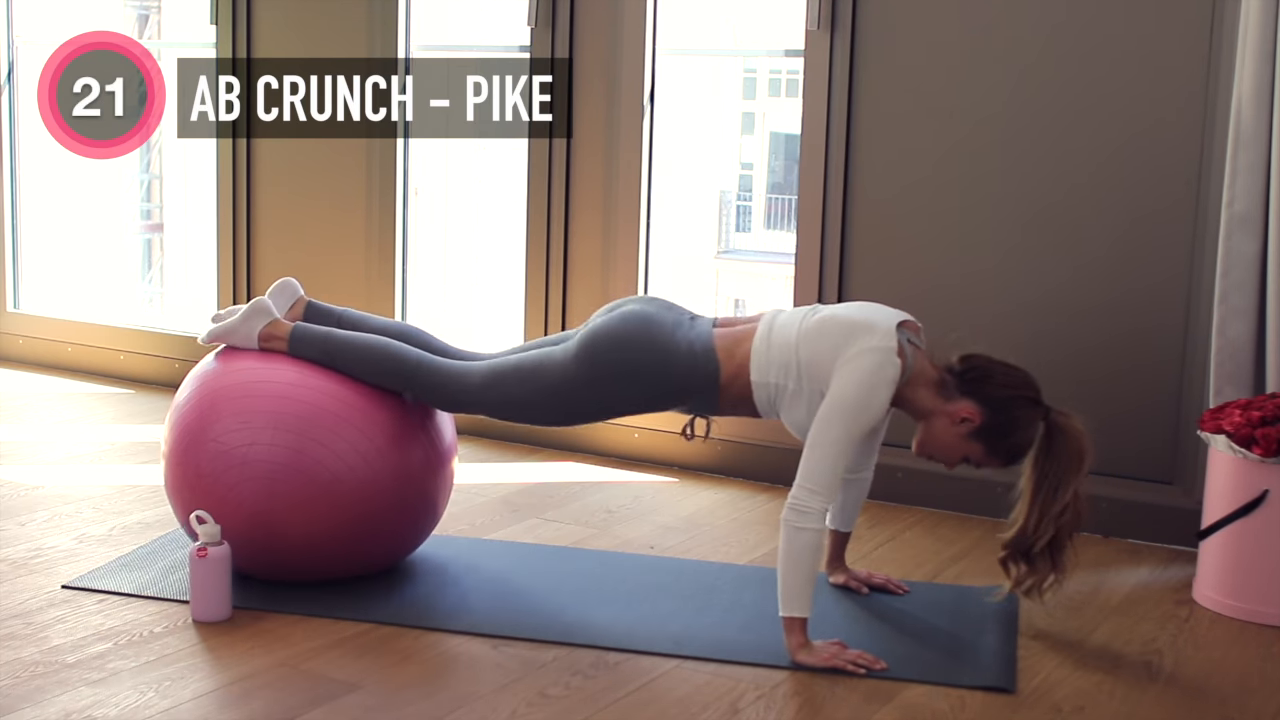yogaball: (155, 346, 463, 586)
